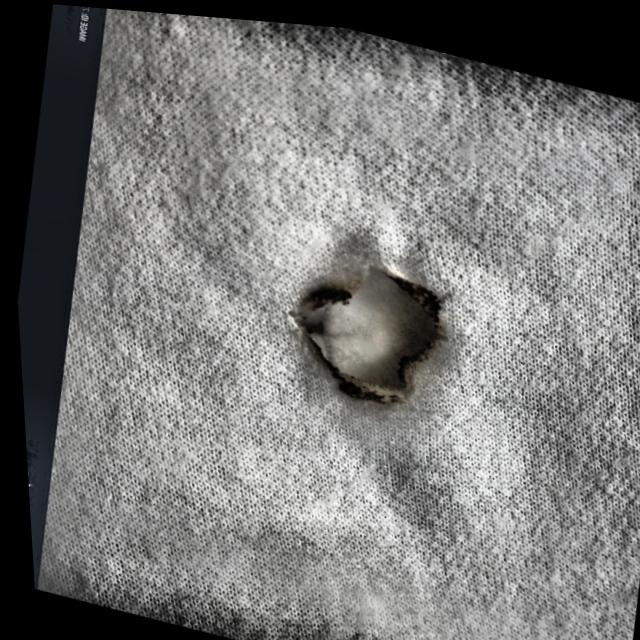Hole: (238, 200, 503, 458)
